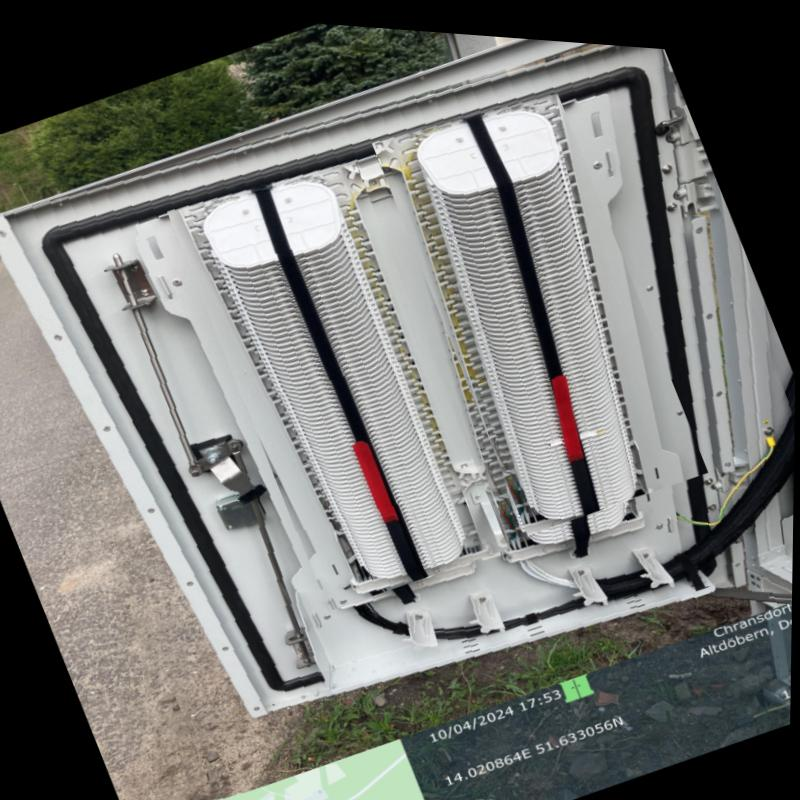NT-Gehause: (0, 34, 796, 710)
Spleiskassetten: (163, 132, 515, 617), (368, 61, 714, 537)
